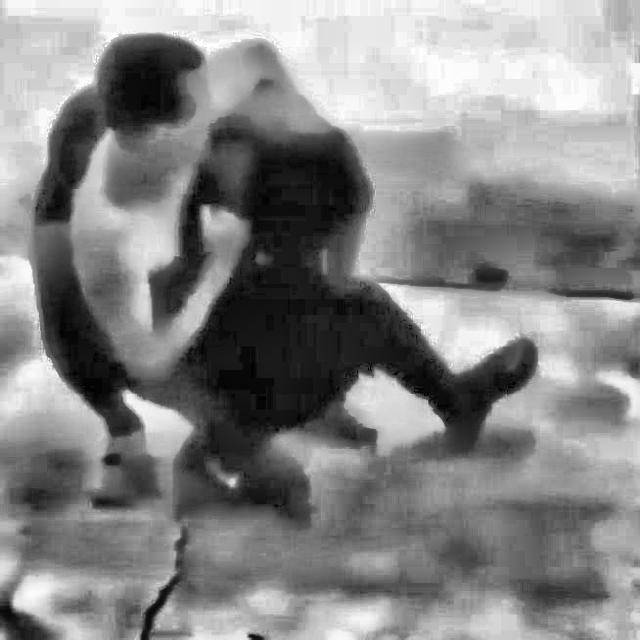robbery: (20, 12, 559, 536)
